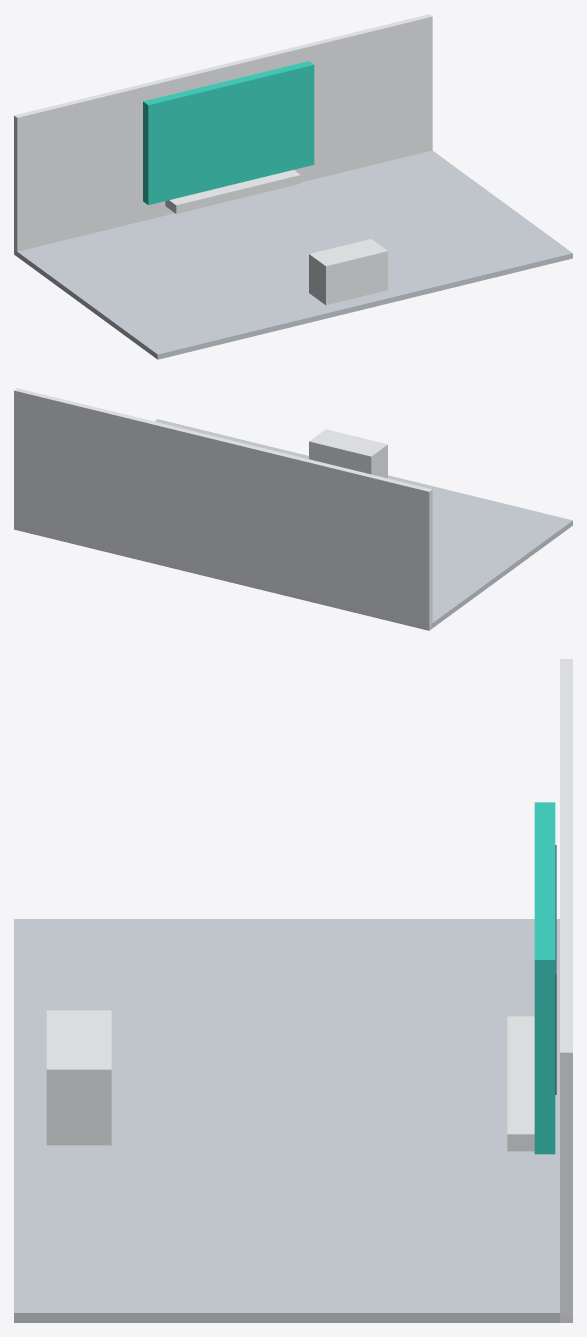
The picture shows the model from 3 angles, top to bottom: view 1: azimuth 30°, elevation 25°; view 2: azimuth 150°, elevation 25°; view 3: azimuth 270°, elevation 25°; orthographic projection. The views are drawn at different scales.
Parts seen in each view (by area): view 1: Exhibition Booth Concept; view 2: Exhibition Booth Concept; view 3: Exhibition Booth Concept.
Part boxes in pixels (bbox=[...]): Exhibition Booth Concept: bbox=[14, 14, 572, 359]; Exhibition Booth Concept: bbox=[14, 388, 572, 630]; Exhibition Booth Concept: bbox=[14, 659, 572, 1322].
Size of the model in its own units: 10 by 3.2 by 6.
